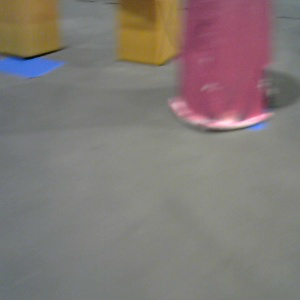right: (169, 1, 274, 129)
